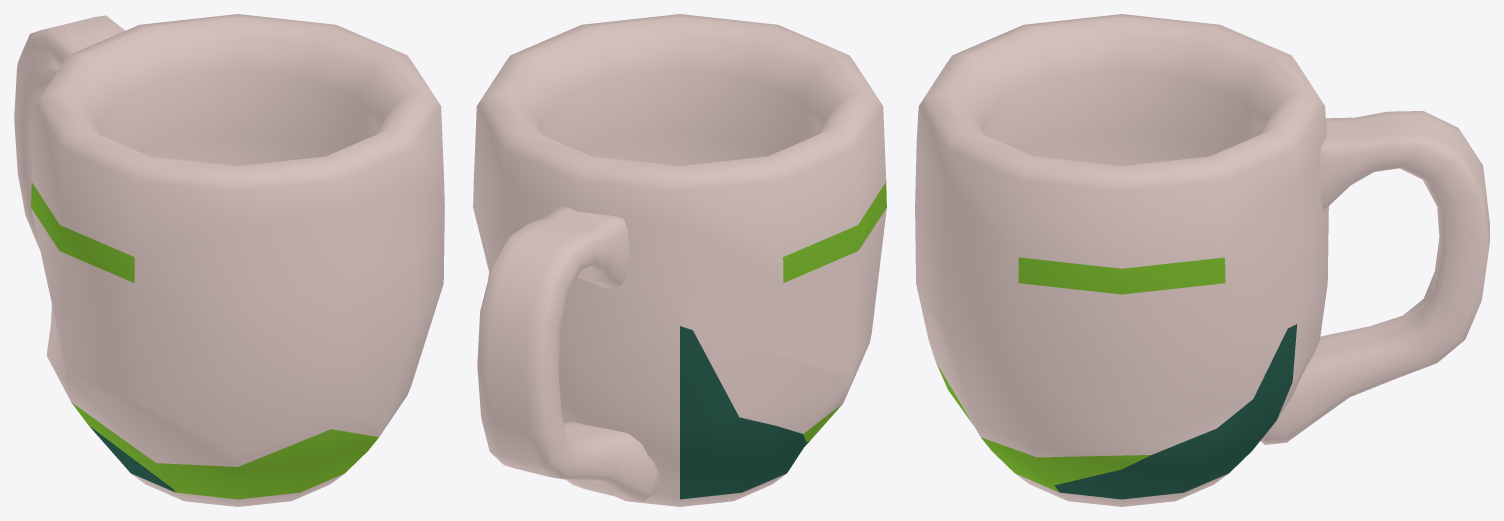
Rendered from IgTasse.glb.
The picture shows the model from 3 angles, left to right: view 1: azimuth 30°, elevation 25°; view 2: azimuth 150°, elevation 25°; view 3: azimuth 270°, elevation 25°; orthographic projection.
Visible parts, largest first — view 1: Cylinder.001; view 2: Cylinder.001; view 3: Cylinder.001.
Part boxes in pixels (left/top/right/bottom): Cylinder.001: left=14, top=14, right=444, bottom=506; Cylinder.001: left=473, top=14, right=886, bottom=506; Cylinder.001: left=915, top=14, right=1489, bottom=506.
Bounding box in the file's own units: 2.13 × 2.14 × 2.97.
Materials: 1 (1 with a texture image).
